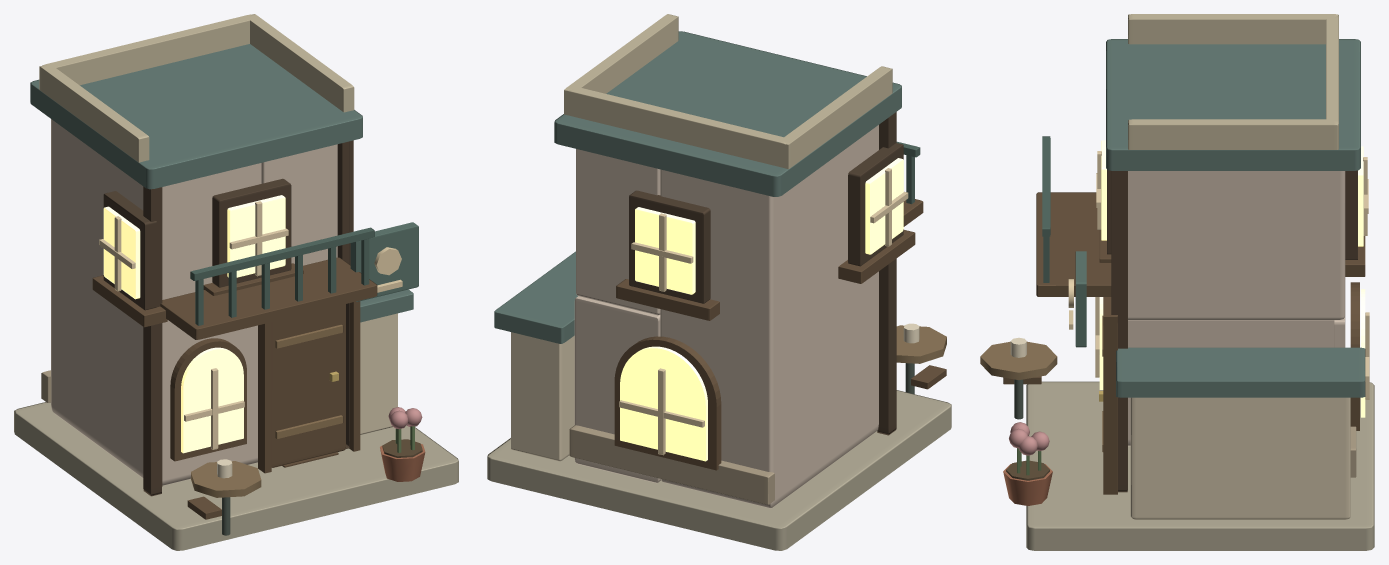
The model's file is cafe-1.glb.
3 views of the same model, side by side, from view 1: azimuth 30°, elevation 25°; view 2: azimuth 150°, elevation 25°; view 3: azimuth 270°, elevation 25° (orthographic). The views are drawn at different scales.
Visible parts, largest first — view 1: cafe-1-0, door-hinge; view 2: cafe-1-0; view 3: cafe-1-0.
Part boxes in pixels (bbox=[...]): cafe-1-0: bbox=[14, 14, 458, 550]; door-hinge: bbox=[271, 304, 345, 467]; cafe-1-0: bbox=[487, 14, 951, 550]; cafe-1-0: bbox=[980, 14, 1374, 550].
Bounding box in the file's own units: 1.9 × 2.38 × 2.15.
